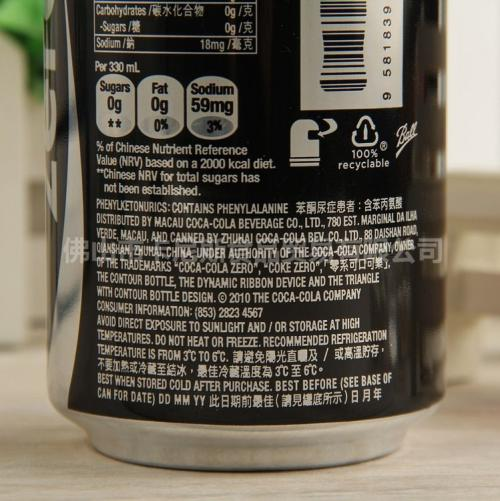coke_zero: (36, 1, 453, 477)
